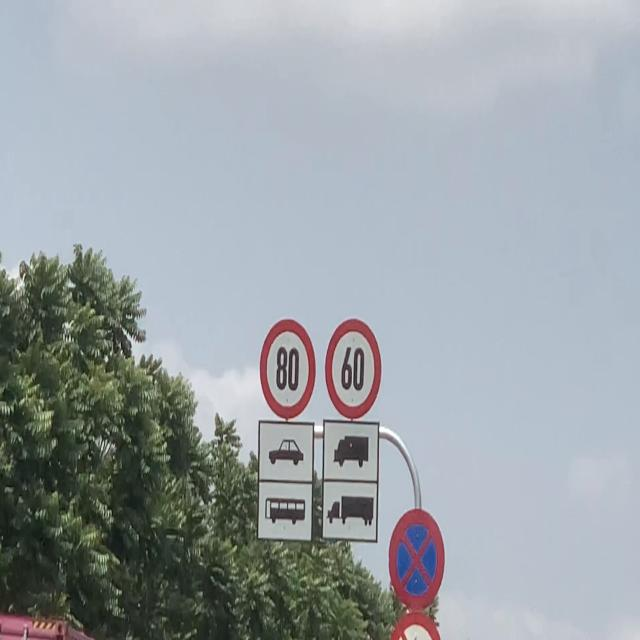Cam dung va do: (386, 506, 446, 610)
Toc do toi da: (324, 316, 384, 423), (258, 316, 317, 420)
